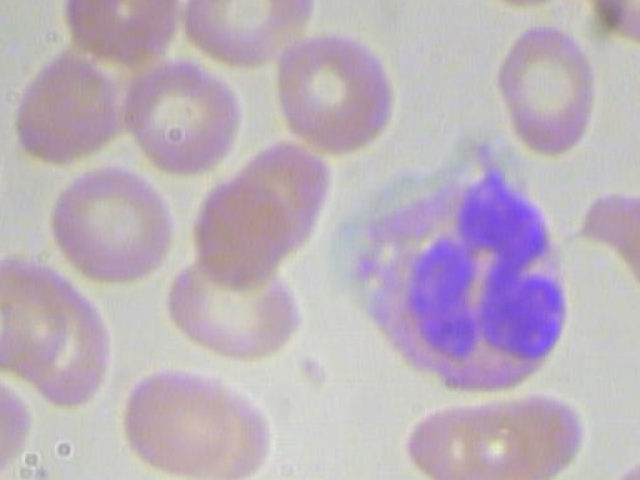RBC: (392, 386, 594, 480), (492, 14, 613, 158), (279, 17, 399, 160), (46, 157, 177, 287), (170, 164, 301, 294), (112, 352, 243, 480), (2, 49, 129, 161), (116, 59, 243, 171), (166, 0, 328, 68), (57, 0, 184, 59)
WBC: (331, 132, 572, 398)
